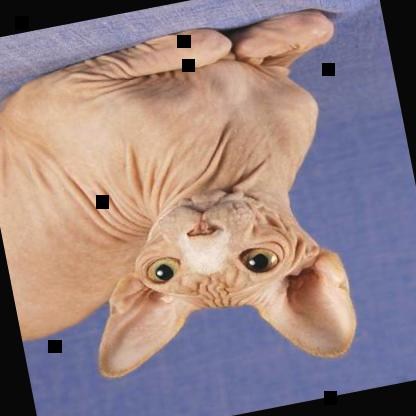cat: (0, 0, 395, 415)
